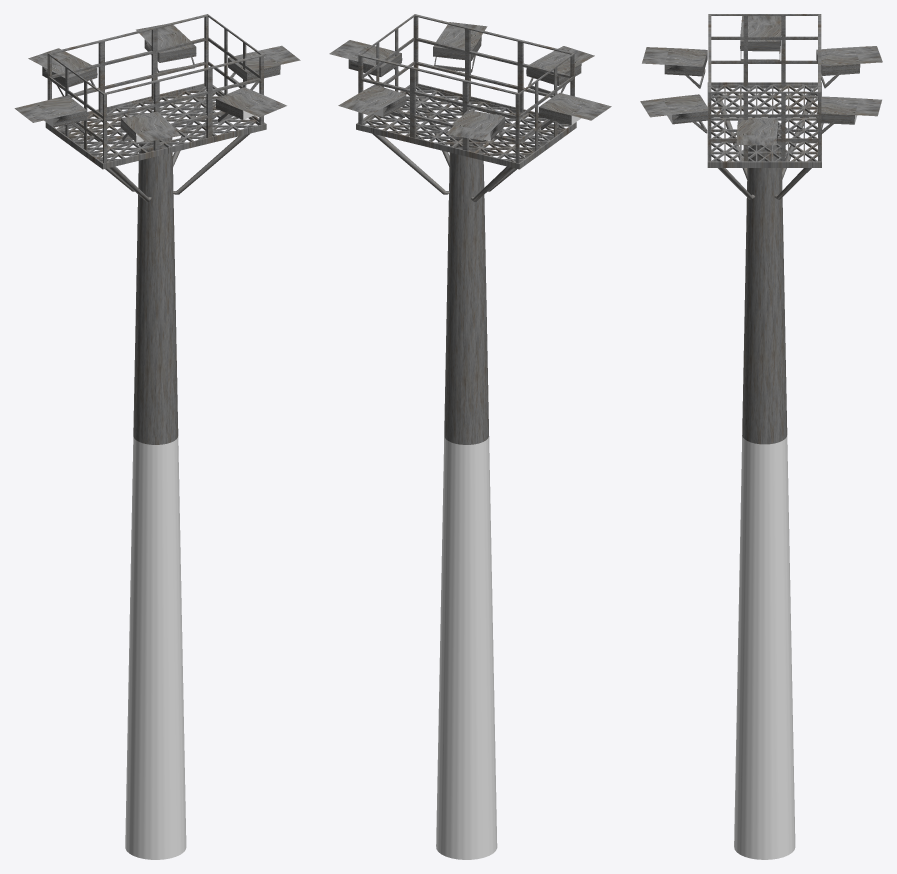
The model's file is LightPoleApron9Mid.gltf.
3 renders of one model, left to right at view 1: azimuth 30°, elevation 25°; view 2: azimuth 150°, elevation 25°; view 3: azimuth 270°, elevation 25°, orthographic.
Visible parts, largest first — view 1: Main Pole, Floor Grating, Long Banister, Short banister, Floodlight.002, Floodlight.007, Floodlight.008, Floodlight.006, Floodlight, Floodlight.001, Floor Holder; view 2: Main Pole, Floor Grating, Long Banister, Short banister, Floodlight.002, Floodlight, Floodlight.006, Floodlight.008, Floodlight.007, Floodlight.001, Floor Holder; view 3: Main Pole, Floor Grating, Short banister, Floodlight.006, Floodlight.007, Floodlight.001, Floodlight, Floodlight.002, Floodlight.008, Floor Holder, Long Banister.
Boxes of the visible parts, x1,y1,x2,y2 form: Main Pole: [125, 137, 186, 859]; Floor Grating: [45, 83, 266, 169]; Long Banister: [49, 14, 262, 162]; Short banister: [47, 14, 263, 163]; Floodlight.002: [14, 95, 86, 133]; Floodlight.007: [216, 87, 286, 121]; Floodlight.008: [228, 45, 300, 90]; Floodlight.006: [120, 111, 180, 142]; Floodlight: [136, 24, 196, 72]; Floodlight.001: [28, 48, 97, 97]; Floor Holder: [61, 98, 249, 202]; Main Pole: [436, 128, 497, 859]; Floor Grating: [356, 83, 576, 169]; Long Banister: [359, 14, 573, 162]; Short banister: [358, 14, 574, 163]; Floodlight.002: [538, 93, 611, 129]; Floodlight: [338, 84, 406, 117]; Floodlight.006: [526, 46, 594, 94]; Floodlight.008: [329, 40, 402, 85]; Floodlight.007: [433, 22, 487, 72]; Floodlight.001: [446, 110, 505, 140]; Floor Holder: [372, 98, 560, 201]; Main Pole: [734, 126, 795, 859]; Floor Grating: [707, 82, 821, 167]; Short banister: [708, 14, 821, 161]; Floodlight.006: [642, 47, 707, 88]; Floodlight.007: [640, 94, 708, 133]; Floodlight.001: [816, 46, 882, 88]; Floodlight: [816, 96, 881, 134]; Floodlight.002: [740, 16, 781, 60]; Floodlight.008: [736, 118, 778, 145]; Floor Holder: [714, 93, 815, 199]; Long Banister: [708, 14, 821, 161].
Size of the model in its own units: 5.8 by 16.51 by 4.58.
6 materials, 3 textured.
